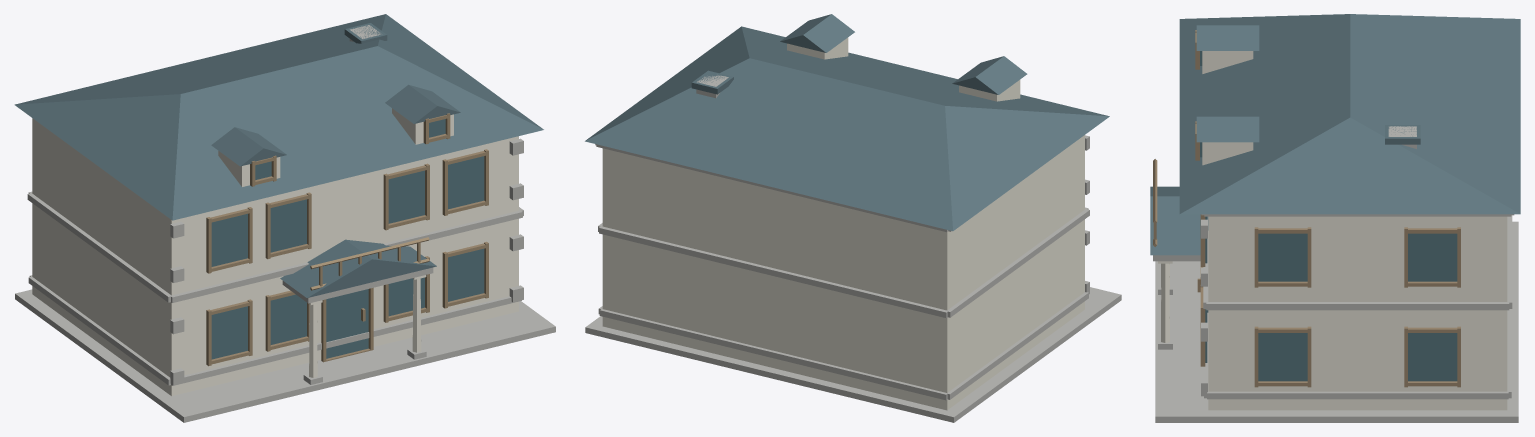
File: house_medium_02.glb
3 views of the same model, side by side, from view 1: azimuth 30°, elevation 25°; view 2: azimuth 150°, elevation 25°; view 3: azimuth 270°, elevation 25° (orthographic). The views are drawn at different scales.
Visible parts, largest first — view 1: House_medium_02; view 2: House_medium_02; view 3: House_medium_02.
Part boxes in pixels (x1,y1,x2,y2): House_medium_02: (14,14,555,422); House_medium_02: (585,14,1121,422); House_medium_02: (1150,14,1520,422).
Bounding box in the file's own units: 12.2 × 7.56 × 9.78.
